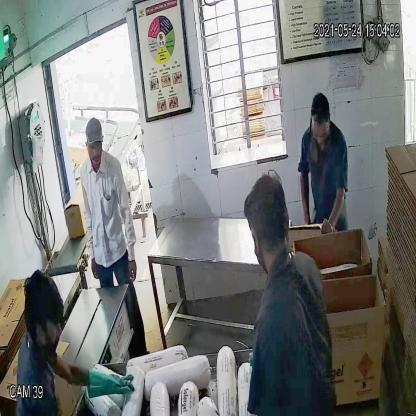no_goggles: (83, 137, 105, 155)
